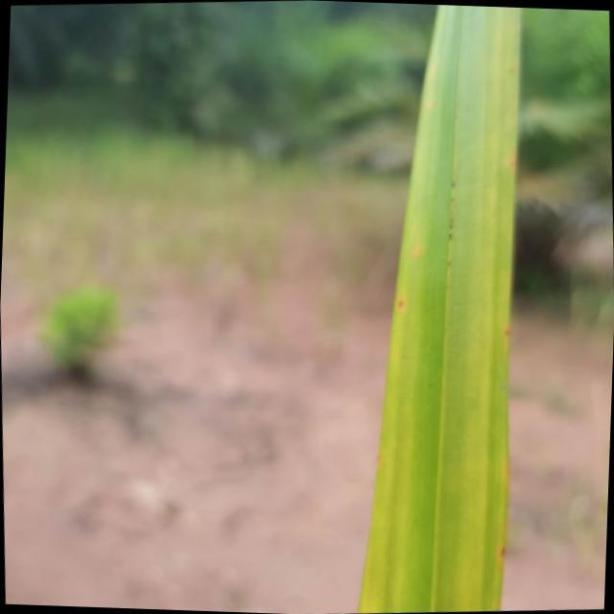nitrogen: (355, 0, 524, 614)
